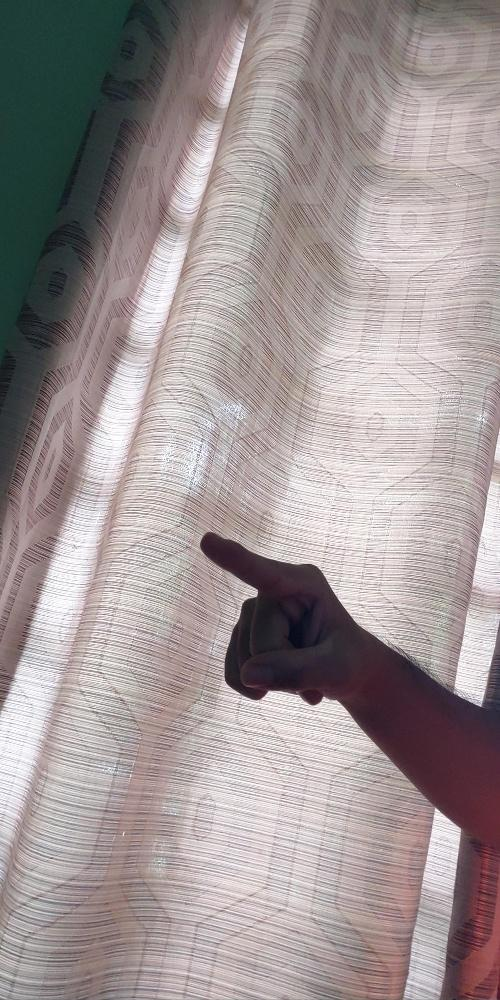z: (196, 527, 353, 707)
